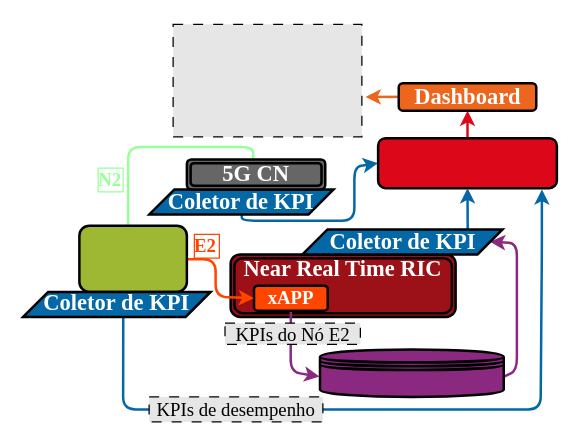
The diagram is 583 pixels wide and 444 high, and some of its shapes have lost their labels. Each missing label, with the centre of its shape:
- KPIs em tempo real; - E2SMs por nó E2; - 5G CN KPIs; - UE KPIs; - gNB KPIs.: point (267, 80)
Banco de Dados: point (411, 373)
Nó E2: point (133, 258)
Servidor de Monitoramento: point (467, 162)
